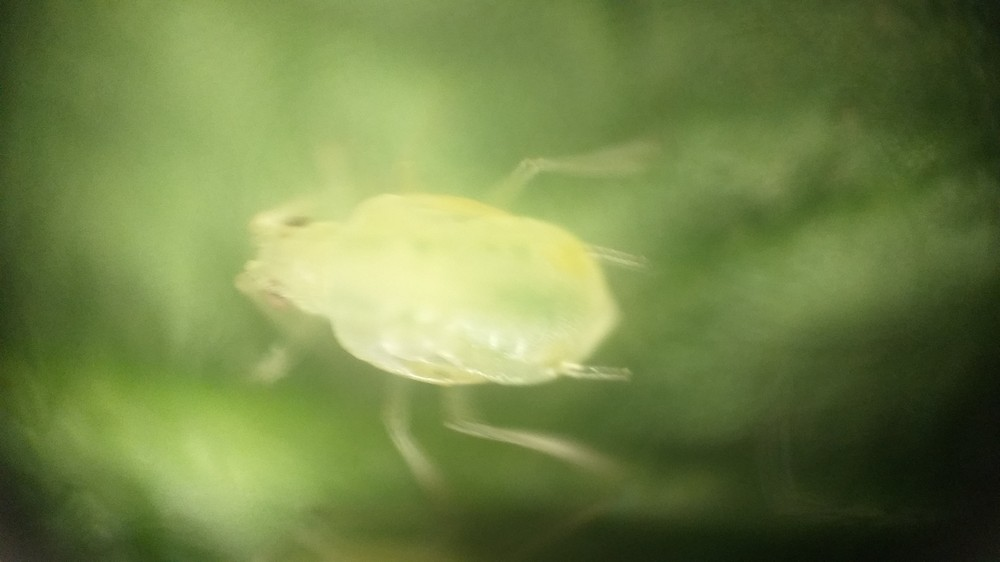Pulgon: (179, 117, 734, 517)
